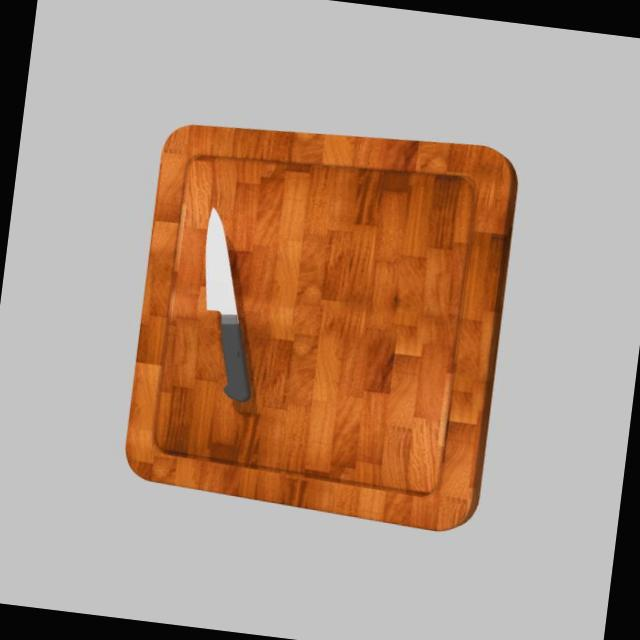knife: (212, 319, 260, 402)
